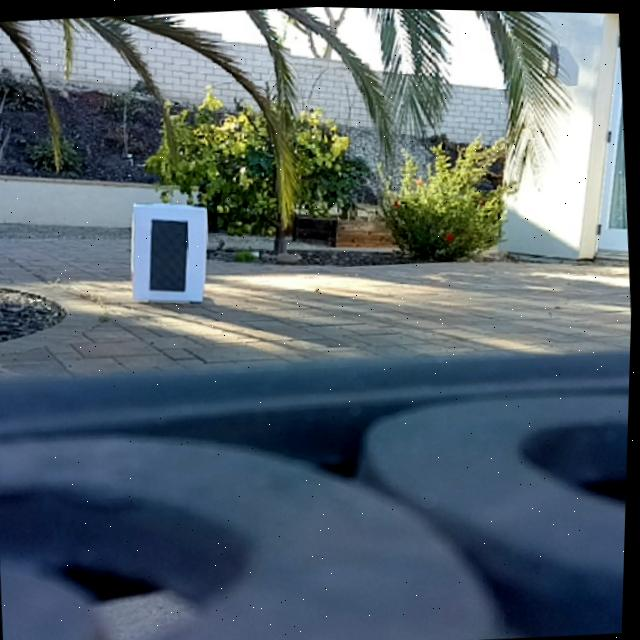led: (145, 214, 195, 294)
